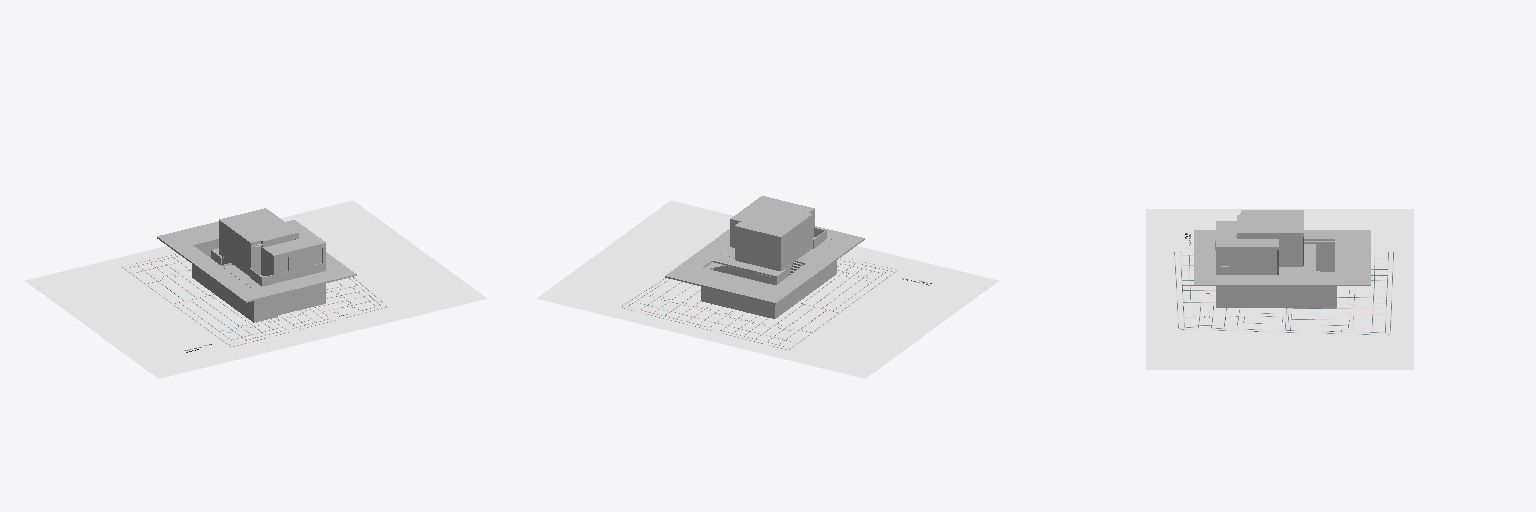
3 renders of one model, left to right at view 1: azimuth 30°, elevation 25°; view 2: azimuth 150°, elevation 25°; view 3: azimuth 270°, elevation 25°, orthographic.
Size of the model in its own units: 587 by 115 by 415.
Materials: 2 (1 with a texture image).